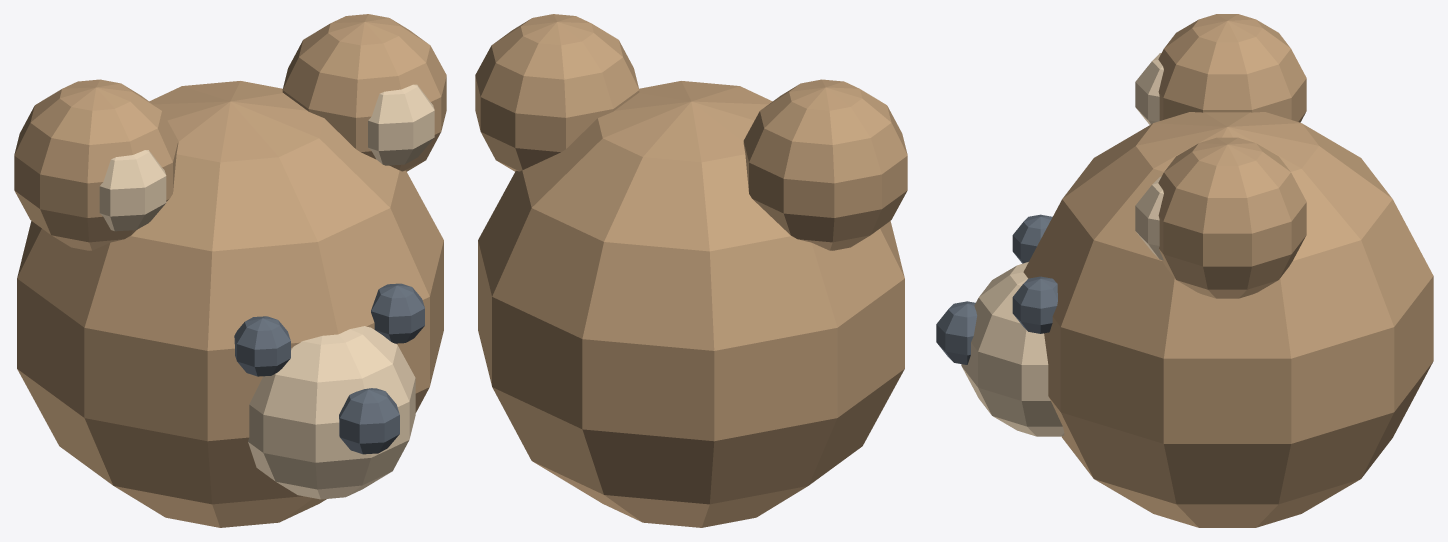
Rendered from toy_bear_head.glb.
The picture shows the model from 3 angles, left to right: view 1: azimuth 30°, elevation 25°; view 2: azimuth 150°, elevation 25°; view 3: azimuth 270°, elevation 25°; orthographic projection. The views are drawn at different scales.
Parts seen in each view (by area): view 1: Head, Inner ear.-1, Eye.-1; view 2: Head; view 3: Head, Inner ear.-1, Eye.-1.
Boxes of the visible parts, <box> form: Head: <box>14,14,446,527</box>; Inner ear.-1: <box>99,84,434,499</box>; Eye.-1: <box>234,283,424,454</box>; Head: <box>475,14,907,527</box>; Head: <box>1023,14,1433,527</box>; Inner ear.-1: <box>961,53,1163,436</box>; Eye.-1: <box>936,214,1057,364</box>.
Bounding box in the file's own units: 0.2727 × 0.29 × 0.3058.
